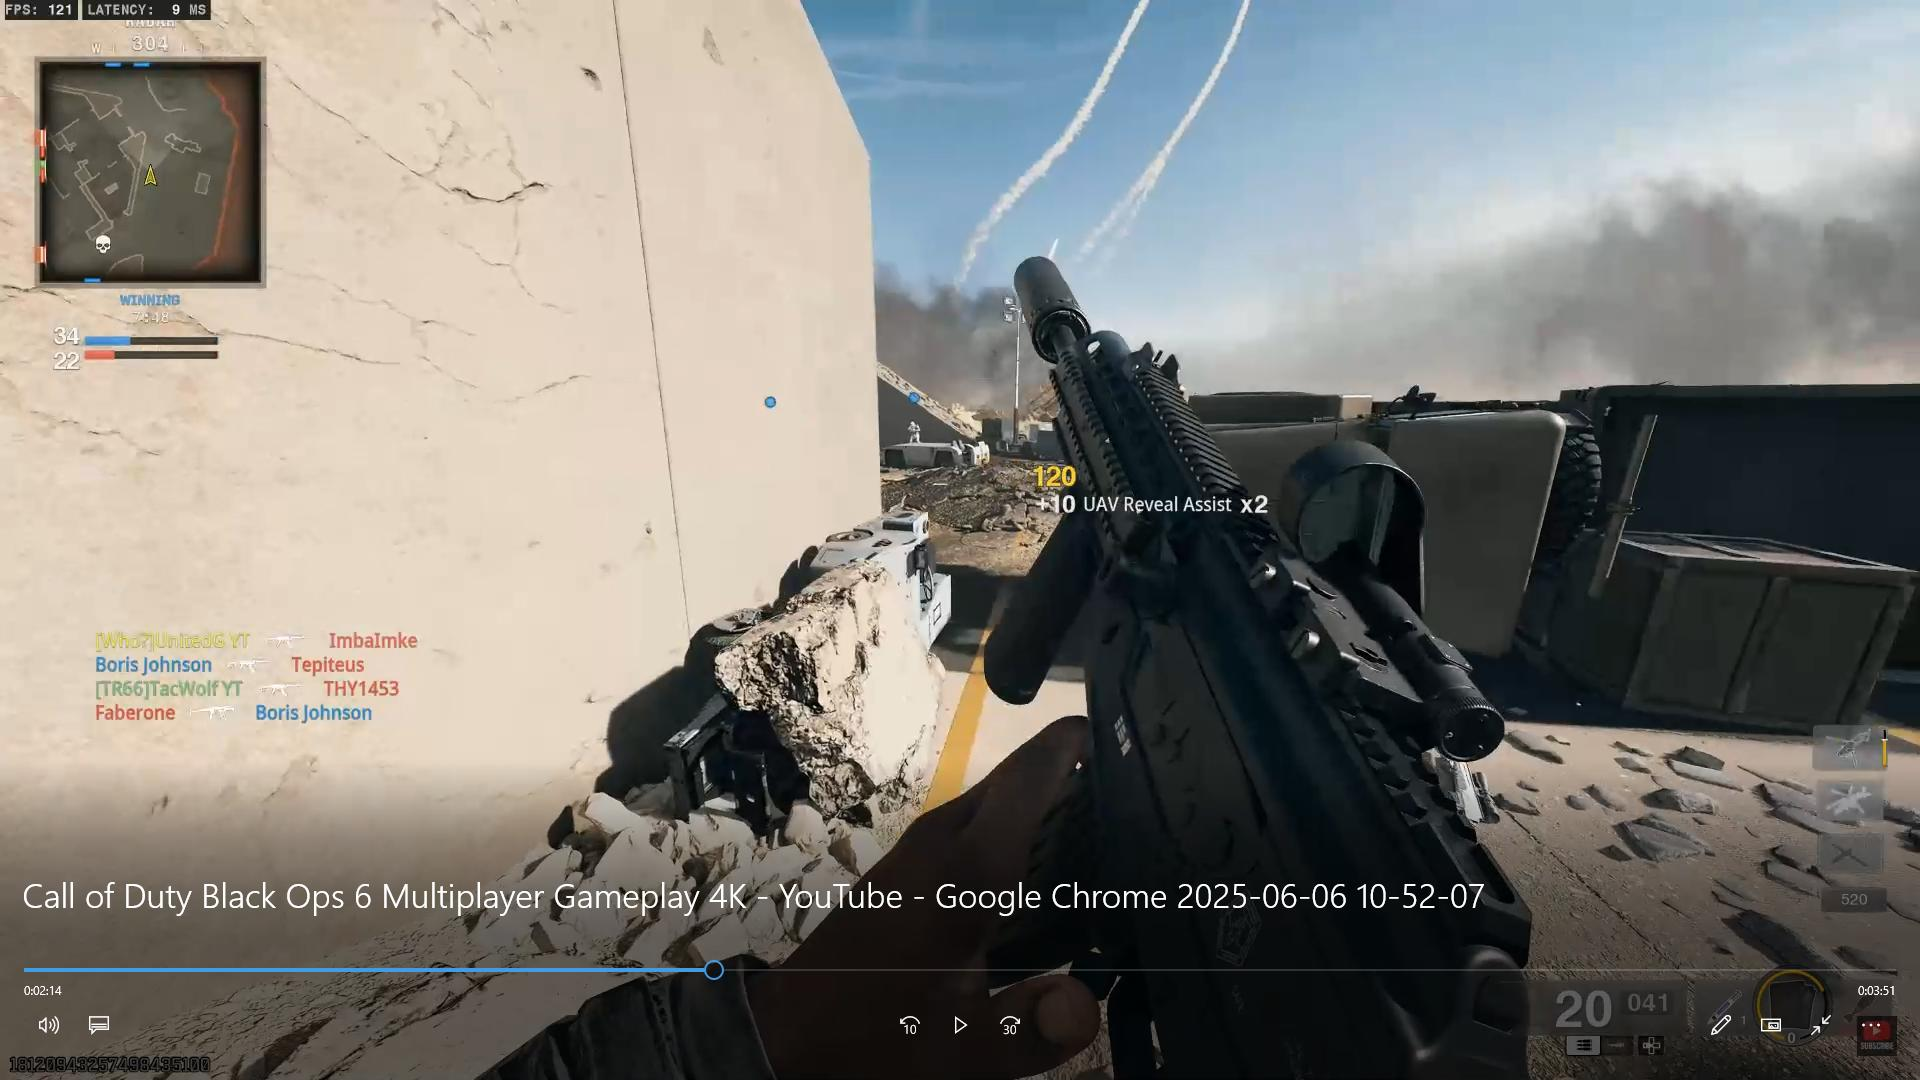Enemy: (903, 413, 926, 443)
